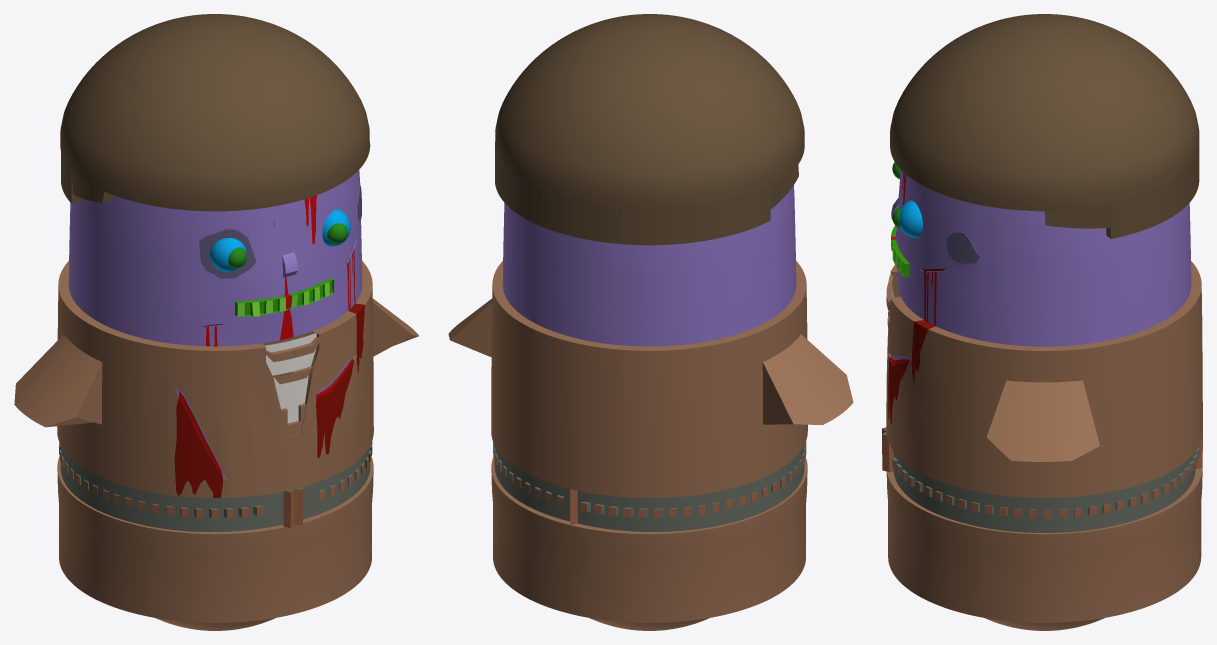
File: FarmerInjured.fbx
3 views of the same model, side by side, from view 1: azimuth 30°, elevation 25°; view 2: azimuth 150°, elevation 25°; view 3: azimuth 270°, elevation 25° (orthographic).
Parts seen in each view (by area): view 1: Sphere, Sphere.001, Sphere.002; view 2: Sphere; view 3: Sphere, Sphere.001.
Part boxes in pixels (x1,y1,x2,y2): Sphere: (14, 14, 418, 630); Sphere.001: (209, 209, 350, 271); Sphere.002: (228, 223, 347, 268); Sphere: (448, 14, 853, 630); Sphere: (882, 14, 1202, 630); Sphere.001: (899, 200, 922, 237).
Size of the model in its own units: 234 by 346 by 171.
